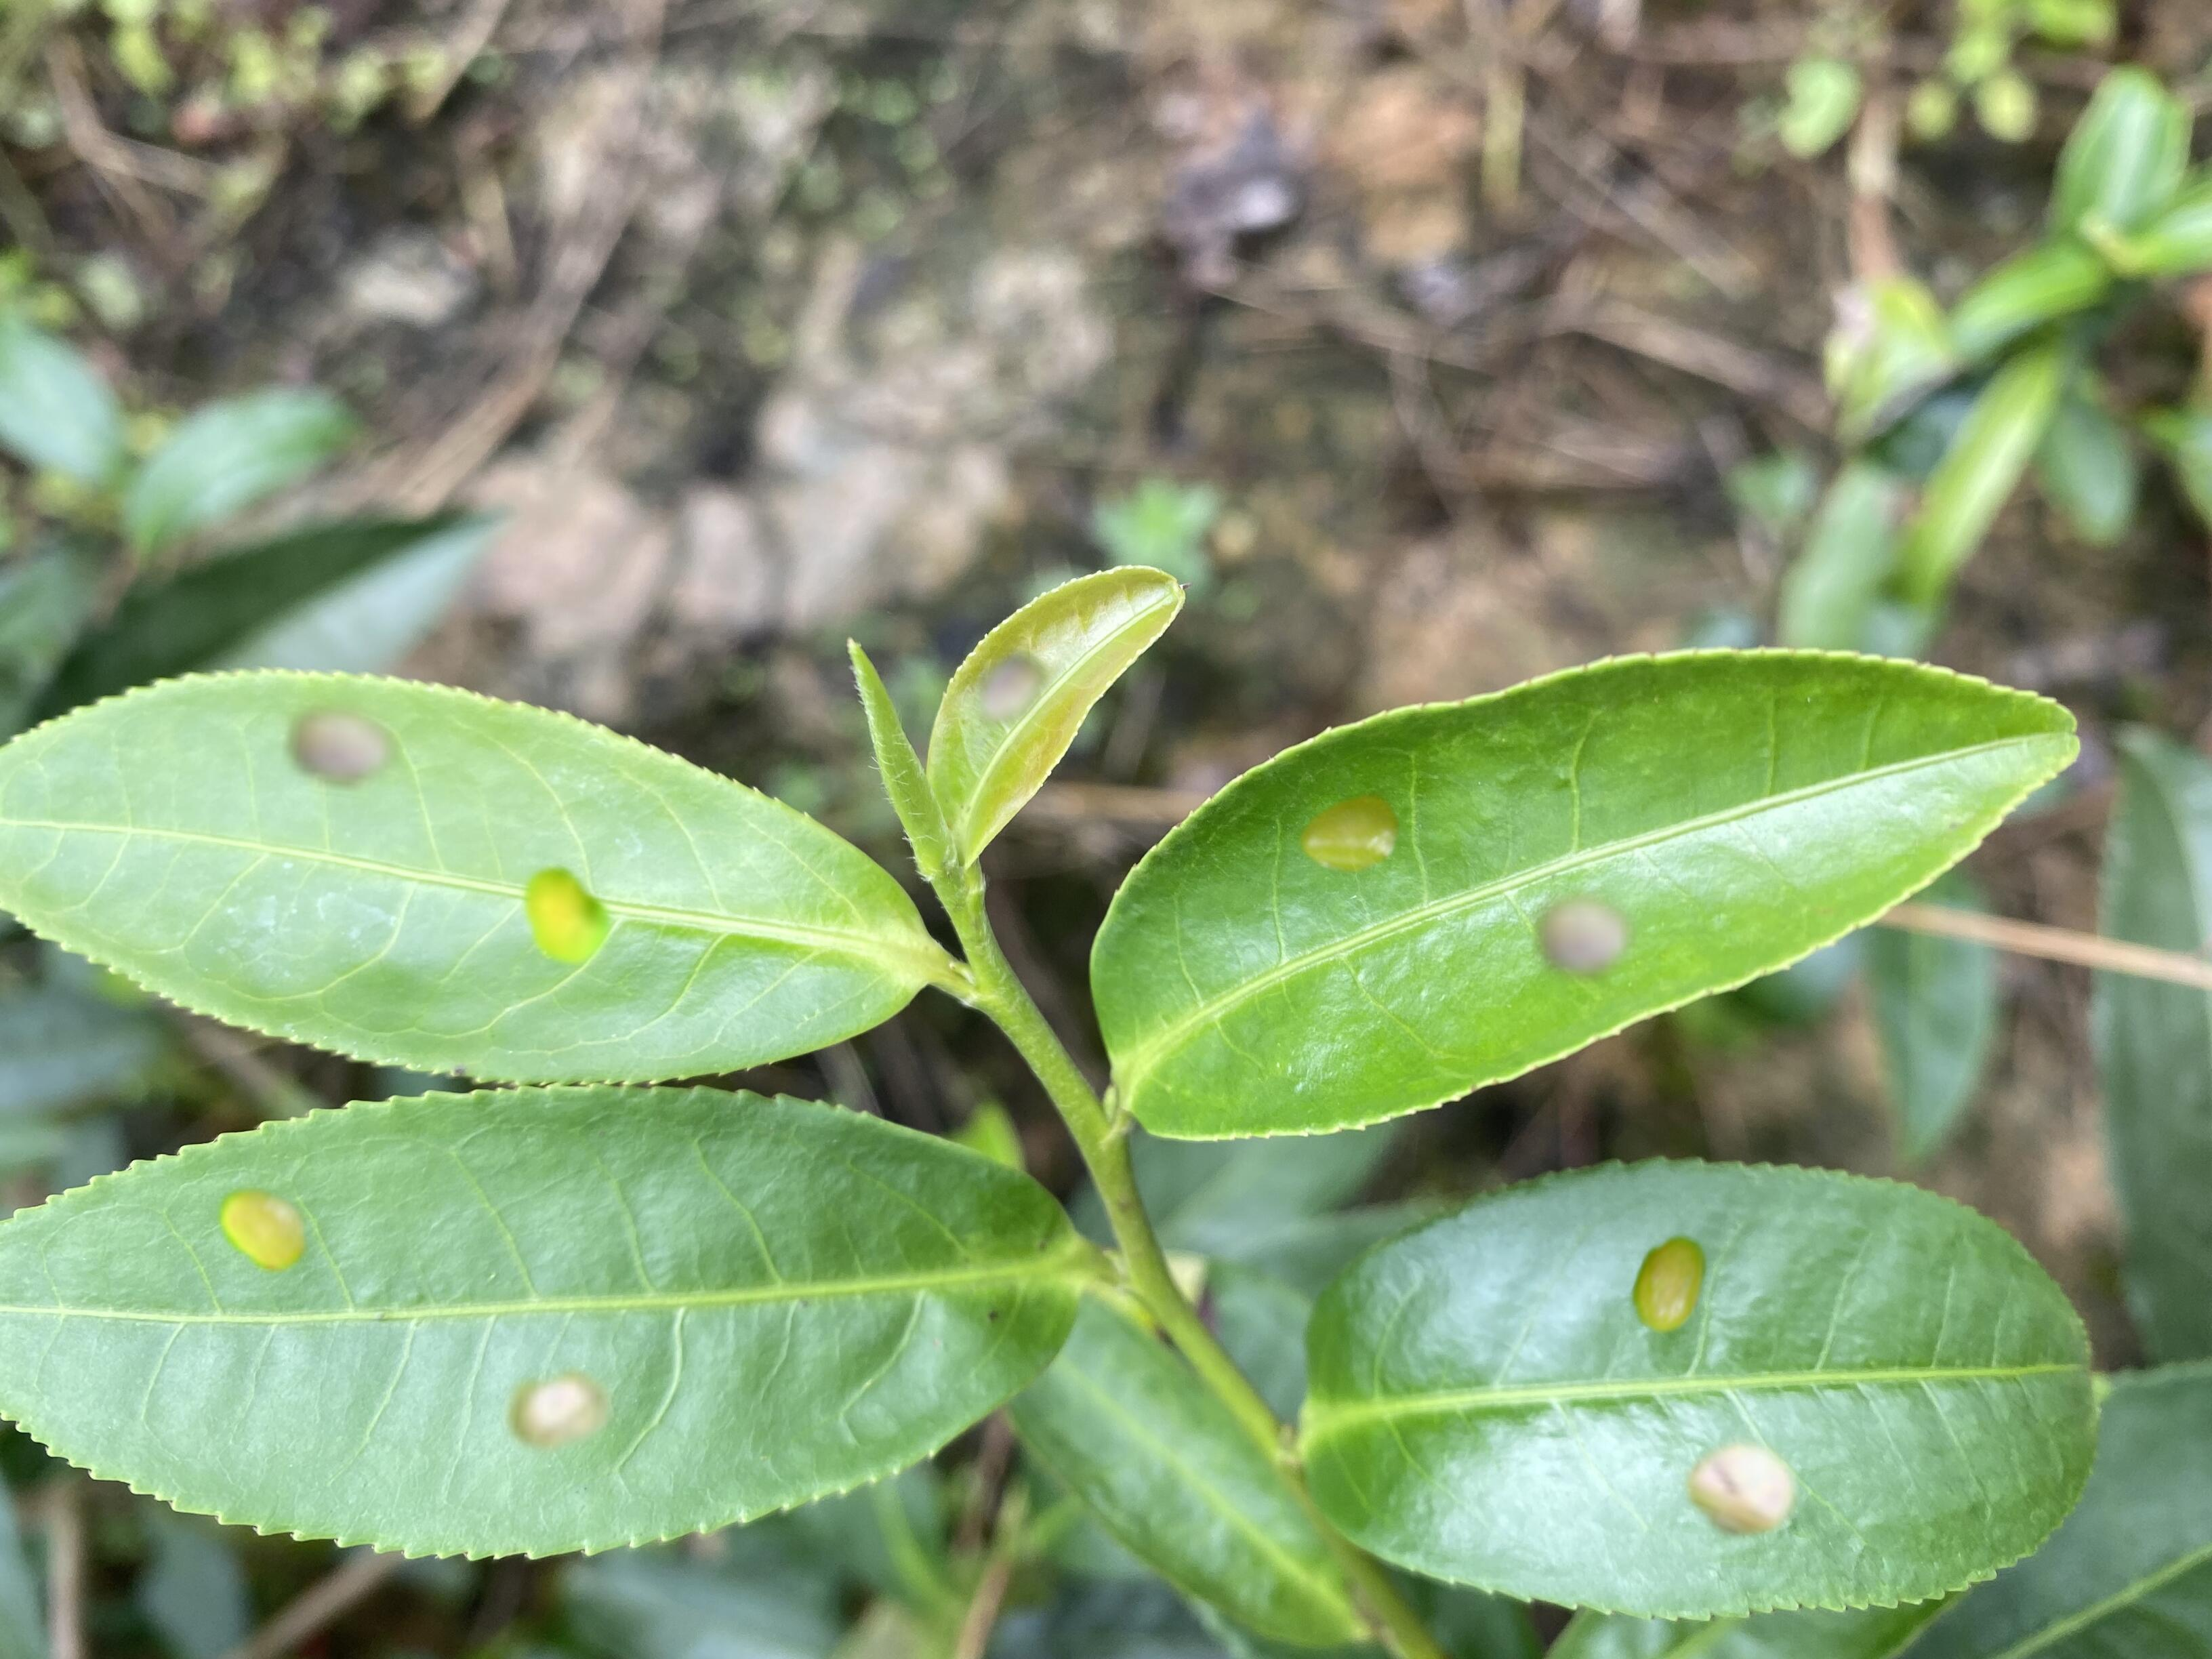chabing_high: (2, 1086, 1090, 1565), (1089, 645, 2081, 1141), (5, 666, 939, 1089), (1296, 1154, 2102, 1622)
chabing_low: (927, 565, 1188, 878)
